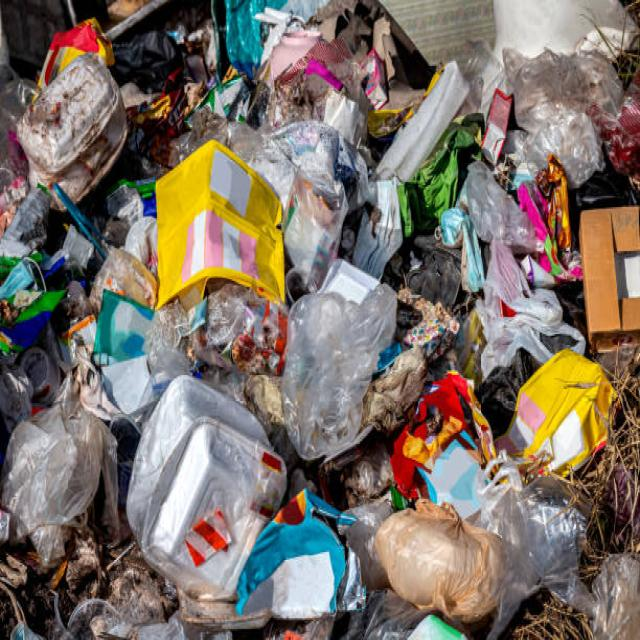plastic: (315, 116, 554, 369)
